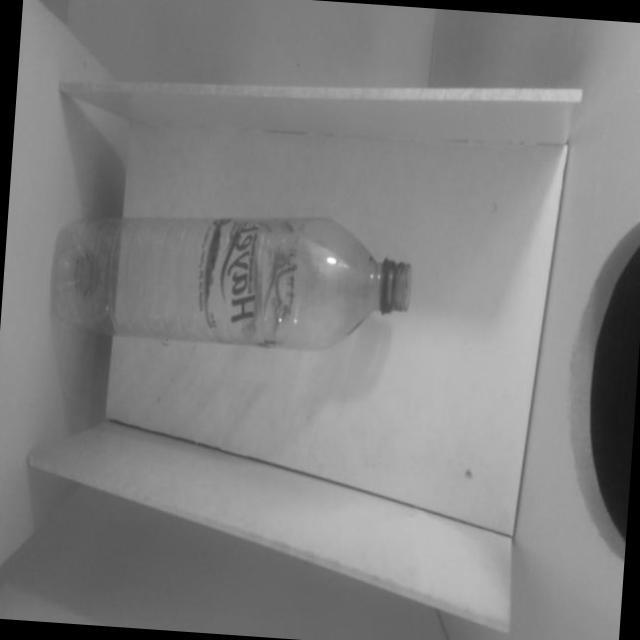good: (33, 170, 428, 390)
